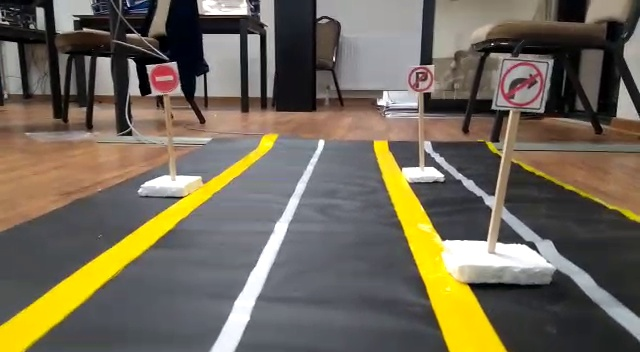girisi_olmayan_yol: (146, 64, 181, 94)
park_yapilmaz: (409, 67, 435, 94)
saga_donulmez: (496, 58, 547, 110)
